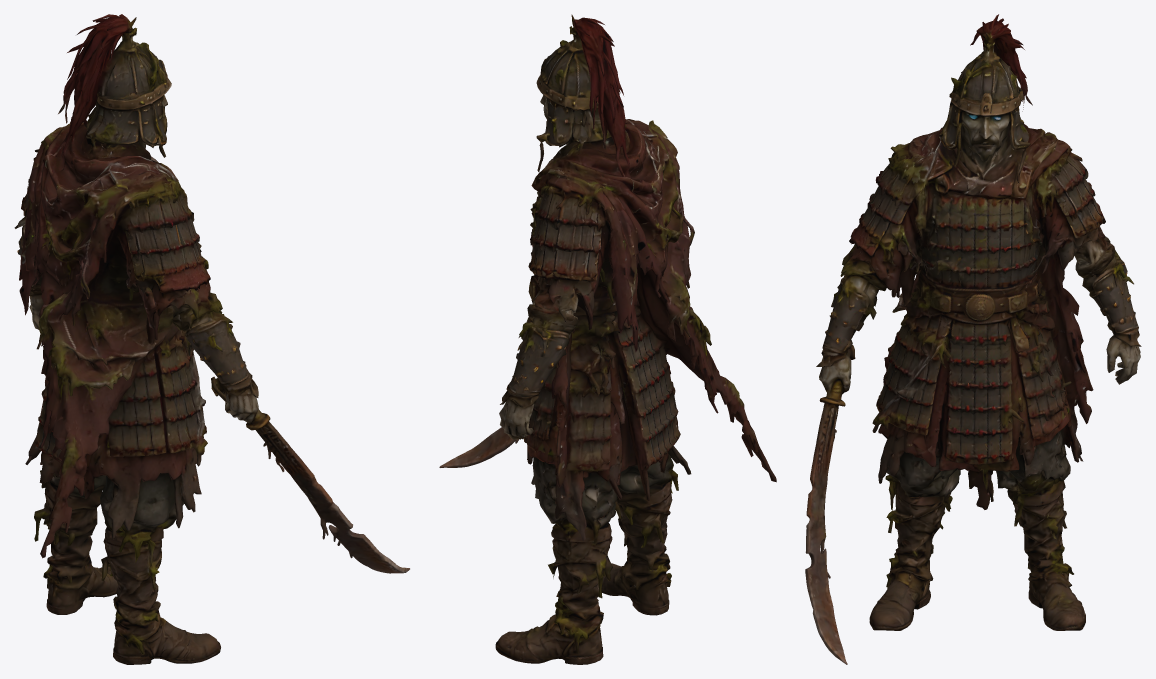
The model's file is HollowedDead-tripo.glb.
3 views of the same model, side by side, from view 1: azimuth 30°, elevation 25°; view 2: azimuth 150°, elevation 25°; view 3: azimuth 270°, elevation 25° (orthographic). The views are drawn at different scales.
Visible parts, largest first — view 1: tripo_node_d5c1fbef-f519-42af-a5fa-200eac9b55f9; view 2: tripo_node_d5c1fbef-f519-42af-a5fa-200eac9b55f9; view 3: tripo_node_d5c1fbef-f519-42af-a5fa-200eac9b55f9.
Boxes of the visible parts, x1,y1,x2,y2 form: tripo_node_d5c1fbef-f519-42af-a5fa-200eac9b55f9: (14,14,409,664); tripo_node_d5c1fbef-f519-42af-a5fa-200eac9b55f9: (439,14,776,664); tripo_node_d5c1fbef-f519-42af-a5fa-200eac9b55f9: (805,14,1141,664).
Size of the model in its own units: 0.6042 by 1 by 0.5136.
Materials: 1 (1 with a texture image).
